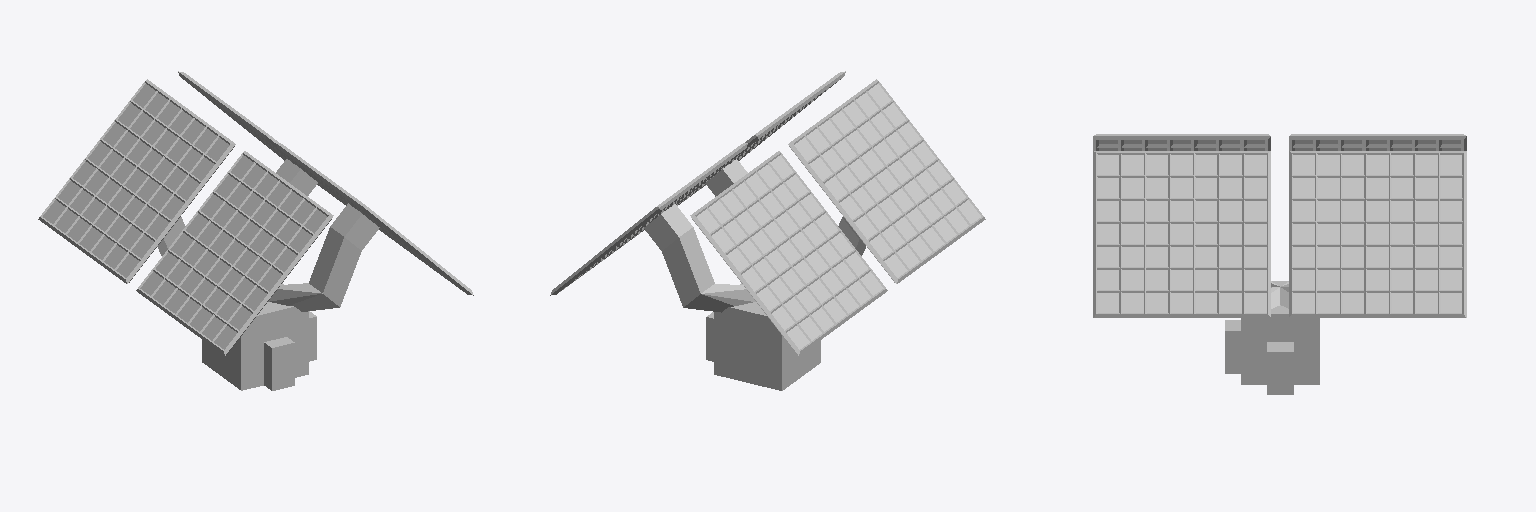
The model's file is sunpowerpunel.obj.
3 renders of one model, left to right at view 1: azimuth 30°, elevation 25°; view 2: azimuth 150°, elevation 25°; view 3: azimuth 270°, elevation 25°, orthographic.
Visible parts, largest first — view 1: Plane, Cube.001, Cube; view 2: Plane, Cube.001, Cube; view 3: Plane, Cube.001.
Part boxes in pixels (x1,y1,x2,y2): Plane: (38,71,473,355); Cube.001: (202,283,316,390); Cube: (157,159,379,311); Plane: (550,71,985,355); Cube.001: (706,283,820,390); Cube: (644,159,865,312); Plane: (1093,134,1466,317); Cube.001: (1225,281,1319,394).
Size of the model in its own units: 3.34 by 2.89 by 4.35.